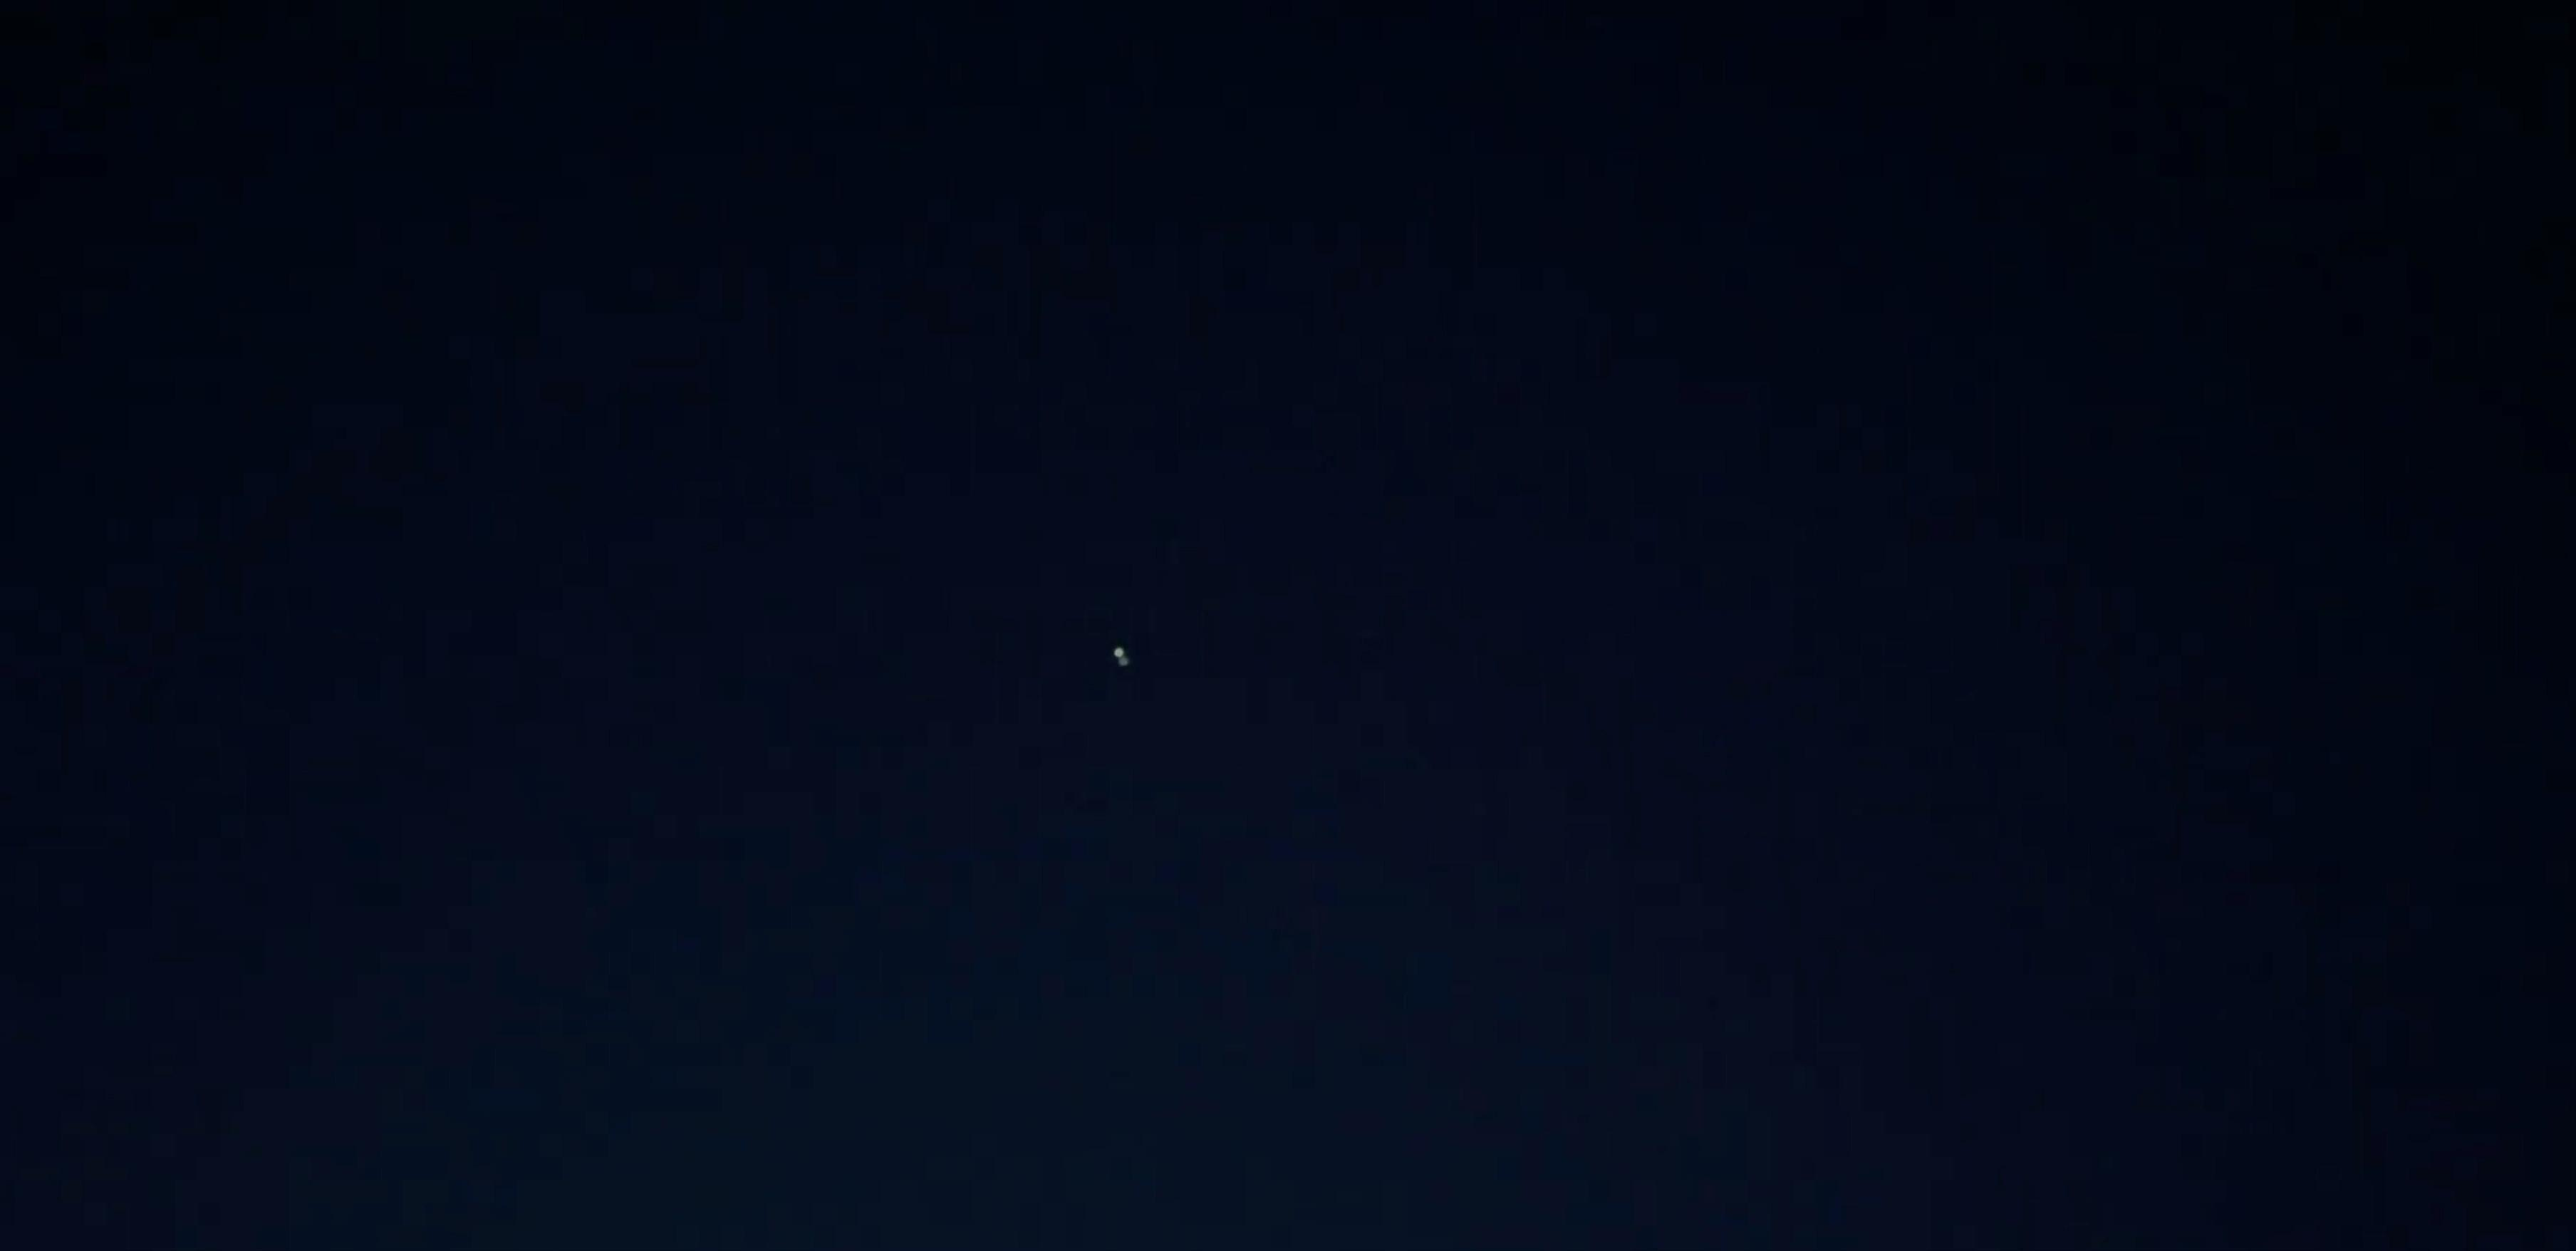Plane: (1094, 628, 1150, 692)
